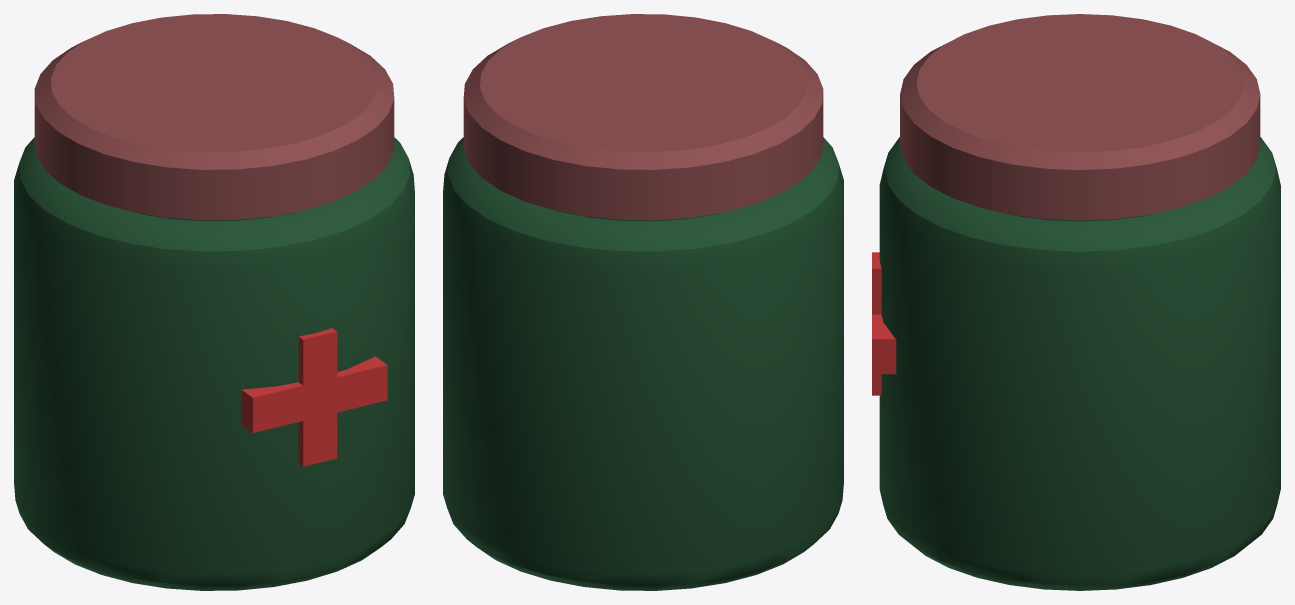
Rendered from aptechka_mid.fbx.
3 views of the same model, side by side, from view 1: azimuth 30°, elevation 25°; view 2: azimuth 150°, elevation 25°; view 3: azimuth 270°, elevation 25° (orthographic).
Parts seen in each view (by area): view 1: aptechka_mid; view 2: aptechka_mid; view 3: aptechka_mid.
Boxes of the visible parts, left/top/right/bottom form: aptechka_mid: left=14, top=14, right=414, bottom=590; aptechka_mid: left=443, top=14, right=843, bottom=590; aptechka_mid: left=872, top=14, right=1280, bottom=590.
Size of the model in its own units: 0.2508 by 0.2985 by 0.2555.
